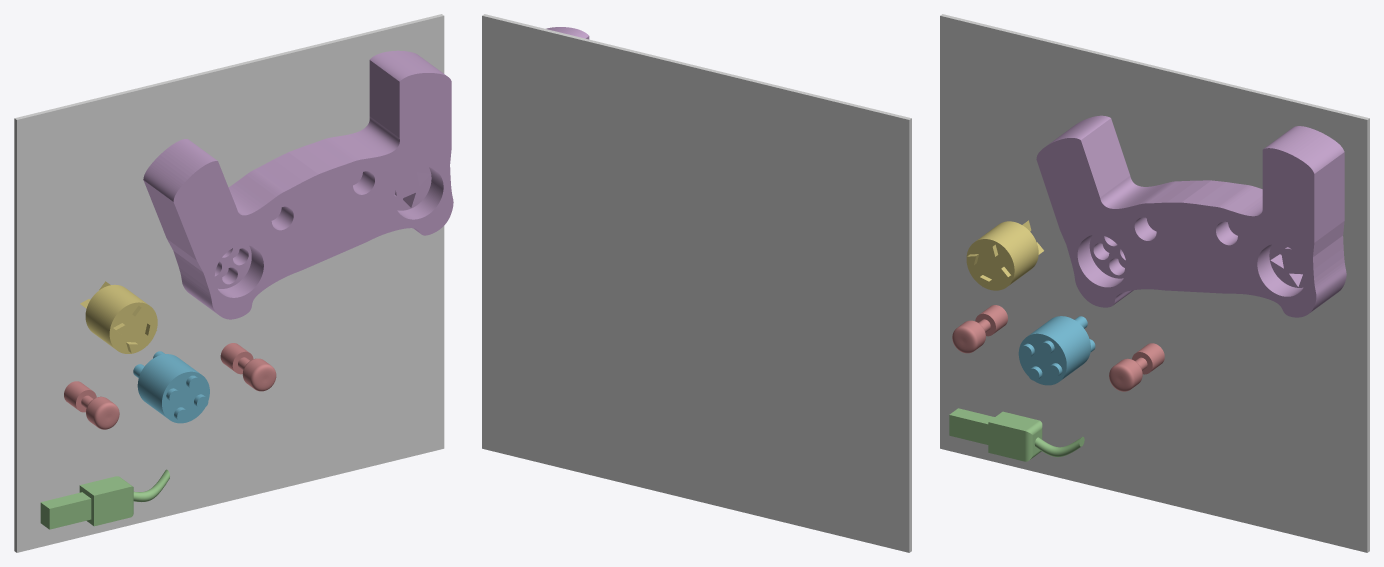
The model's file is pickup_layout.glb.
3 renders of one model, left to right at view 1: azimuth 30°, elevation 25°; view 2: azimuth 150°, elevation 25°; view 3: azimuth 330°, elevation 25°, orthographic.
Parts seen in each view (by area): view 1: world, 3.obj, 4.obj, 2.obj, 1.obj, 0.obj, 5.obj; view 2: world; view 3: world, 3.obj, 4.obj, 2.obj, 1.obj, 0.obj, 5.obj.
Boxes of the visible parts, bbox=[...] form: world: bbox=[14, 14, 444, 552]; 3.obj: bbox=[143, 50, 453, 319]; 4.obj: bbox=[40, 469, 169, 529]; 2.obj: bbox=[133, 351, 209, 423]; 1.obj: bbox=[80, 281, 157, 353]; 0.obj: bbox=[220, 343, 276, 391]; 5.obj: bbox=[64, 381, 119, 429]; world: bbox=[482, 14, 911, 552]; world: bbox=[940, 14, 1369, 552]; 3.obj: bbox=[1036, 115, 1346, 317]; 4.obj: bbox=[949, 408, 1084, 461]; 2.obj: bbox=[1018, 316, 1095, 385]; 1.obj: bbox=[966, 220, 1043, 290]; 0.obj: bbox=[1109, 343, 1164, 391]; 5.obj: bbox=[952, 305, 1007, 353].
Bounding box in the file's own units: 20.45 × 19.79 × 3.2.
